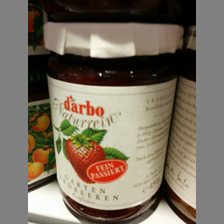jam: (44, 21, 185, 224)
